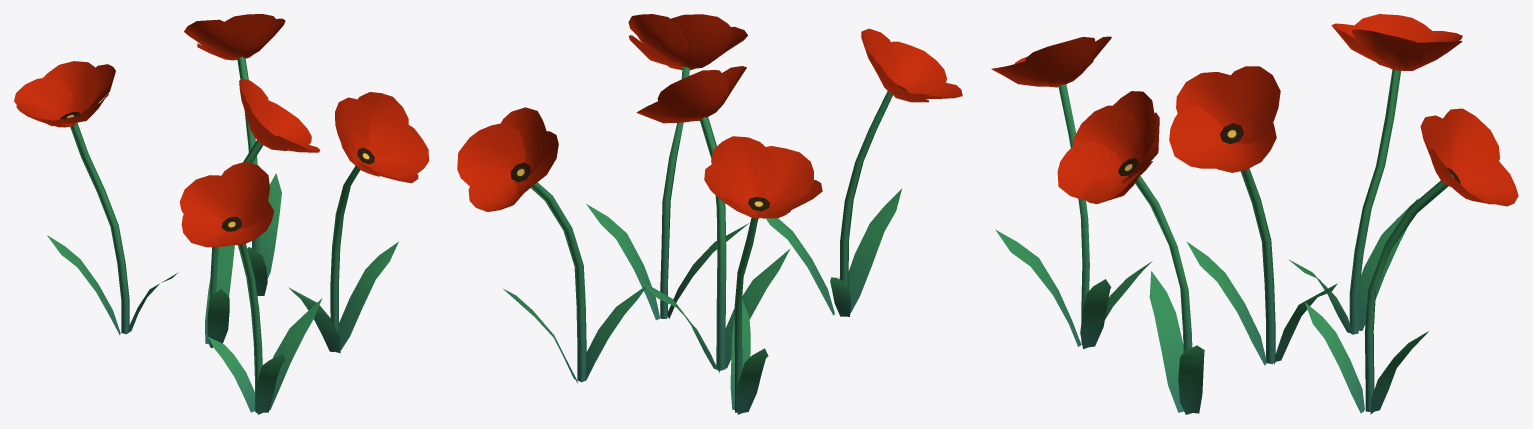
Rendered from Poppy Flower Patch.fbx.
3 views of the same model, side by side, from view 1: azimuth 30°, elevation 25°; view 2: azimuth 150°, elevation 25°; view 3: azimuth 270°, elevation 25° (orthographic). The views are drawn at different scales.
Parts seen in each view (by area): view 1: Poppies; view 2: Poppies; view 3: Poppies.
Boxes of the visible parts, x1,y1,x2,y2 form: Poppies: (14,14,428,414); Poppies: (457,14,962,414); Poppies: (991,14,1518,414).
Bounding box in the file's own units: 0.3146 × 0.272 × 0.4172.
